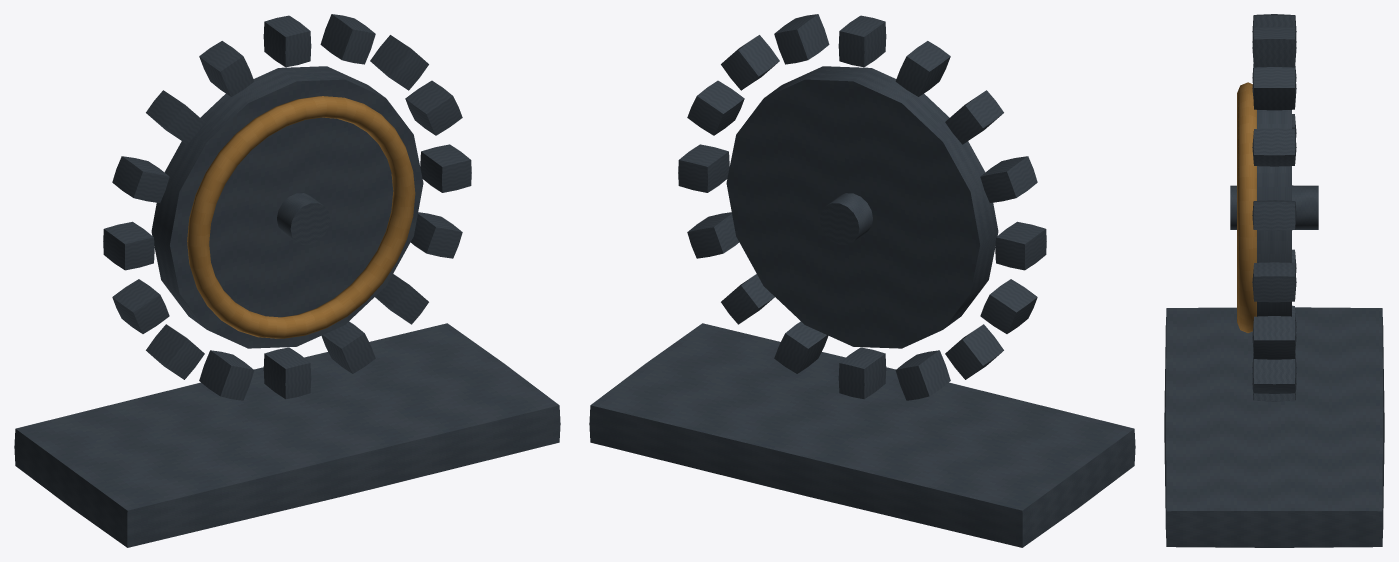
3 renders of one model, left to right at view 1: azimuth 30°, elevation 25°; view 2: azimuth 150°, elevation 25°; view 3: azimuth 270°, elevation 25°, orthographic. The views are drawn at different scales.
Parts seen in each view (by area): view 1: iron.0, iron.1, brass.2, iron.19, iron.15, iron.11, iron.3, iron.7, iron.14, iron.6, iron.12, iron.4 (+8 smaller); view 2: iron.0, iron.1, iron.19, iron.15, iron.11, iron.3, iron.7, iron.14, iron.6, iron.12, iron.4, iron.18 (+7 smaller); view 3: iron.0, brass.2, iron.1, iron.8, iron.4, iron.3, iron.7, iron.5, iron.9, iron.19, iron.6, iron.18 (+1 smaller).
Part boxes in pixels (x1=…): iron.0: x1=14, y1=323, x2=560, y2=547; iron.1: x1=151, y1=66, x2=423, y2=348; brass.2: x1=187, y1=96, x2=415, y2=338; iron.19: x1=277, y1=193, x2=330, y2=244; iron.15: x1=103, y1=221, x2=154, y2=270; iron.11: x1=263, y1=347, x2=311, y2=399; iron.3: x1=263, y1=15, x2=311, y2=67; iron.7: x1=420, y1=144, x2=471, y2=192; iron.14: x1=112, y1=279, x2=169, y2=333; iron.6: x1=405, y1=80, x2=462, y2=135; iron.12: x1=199, y1=350, x2=254, y2=400; iron.4: x1=320, y1=14, x2=375, y2=64; iron.0: x1=589, y1=323, x2=1135, y2=547; iron.1: x1=726, y1=66, x2=998, y2=348; iron.19: x1=819, y1=193, x2=872, y2=244; iron.15: x1=995, y1=221, x2=1046, y2=270; iron.11: x1=838, y1=347, x2=886, y2=399; iron.3: x1=838, y1=15, x2=886, y2=67; iron.7: x1=678, y1=144, x2=729, y2=192; iron.14: x1=980, y1=279, x2=1037, y2=333; iron.6: x1=687, y1=80, x2=744, y2=135; iron.12: x1=895, y1=350, x2=950, y2=400; iron.4: x1=774, y1=14, x2=829, y2=64; iron.18: x1=895, y1=41, x2=950, y2=96; iron.0: x1=1164, y1=307, x2=1384, y2=547; brass.2: x1=1237, y1=82, x2=1256, y2=332; iron.1: x1=1257, y1=110, x2=1291, y2=316; iron.8: x1=1252, y1=316, x2=1296, y2=359; iron.4: x1=1252, y1=67, x2=1296, y2=110; iron.3: x1=1252, y1=27, x2=1296, y2=67; iron.7: x1=1252, y1=262, x2=1296, y2=302; iron.5: x1=1252, y1=128, x2=1296, y2=166; iron.9: x1=1252, y1=356, x2=1296, y2=393; iron.19: x1=1230, y1=185, x2=1318, y2=229; iron.6: x1=1252, y1=200, x2=1296, y2=230; iron.18: x1=1252, y1=14, x2=1296, y2=37.
Bounding box in the file's own units: 1.1 × 1.04 × 0.5.
Materials: 2 (2 with a texture image).
